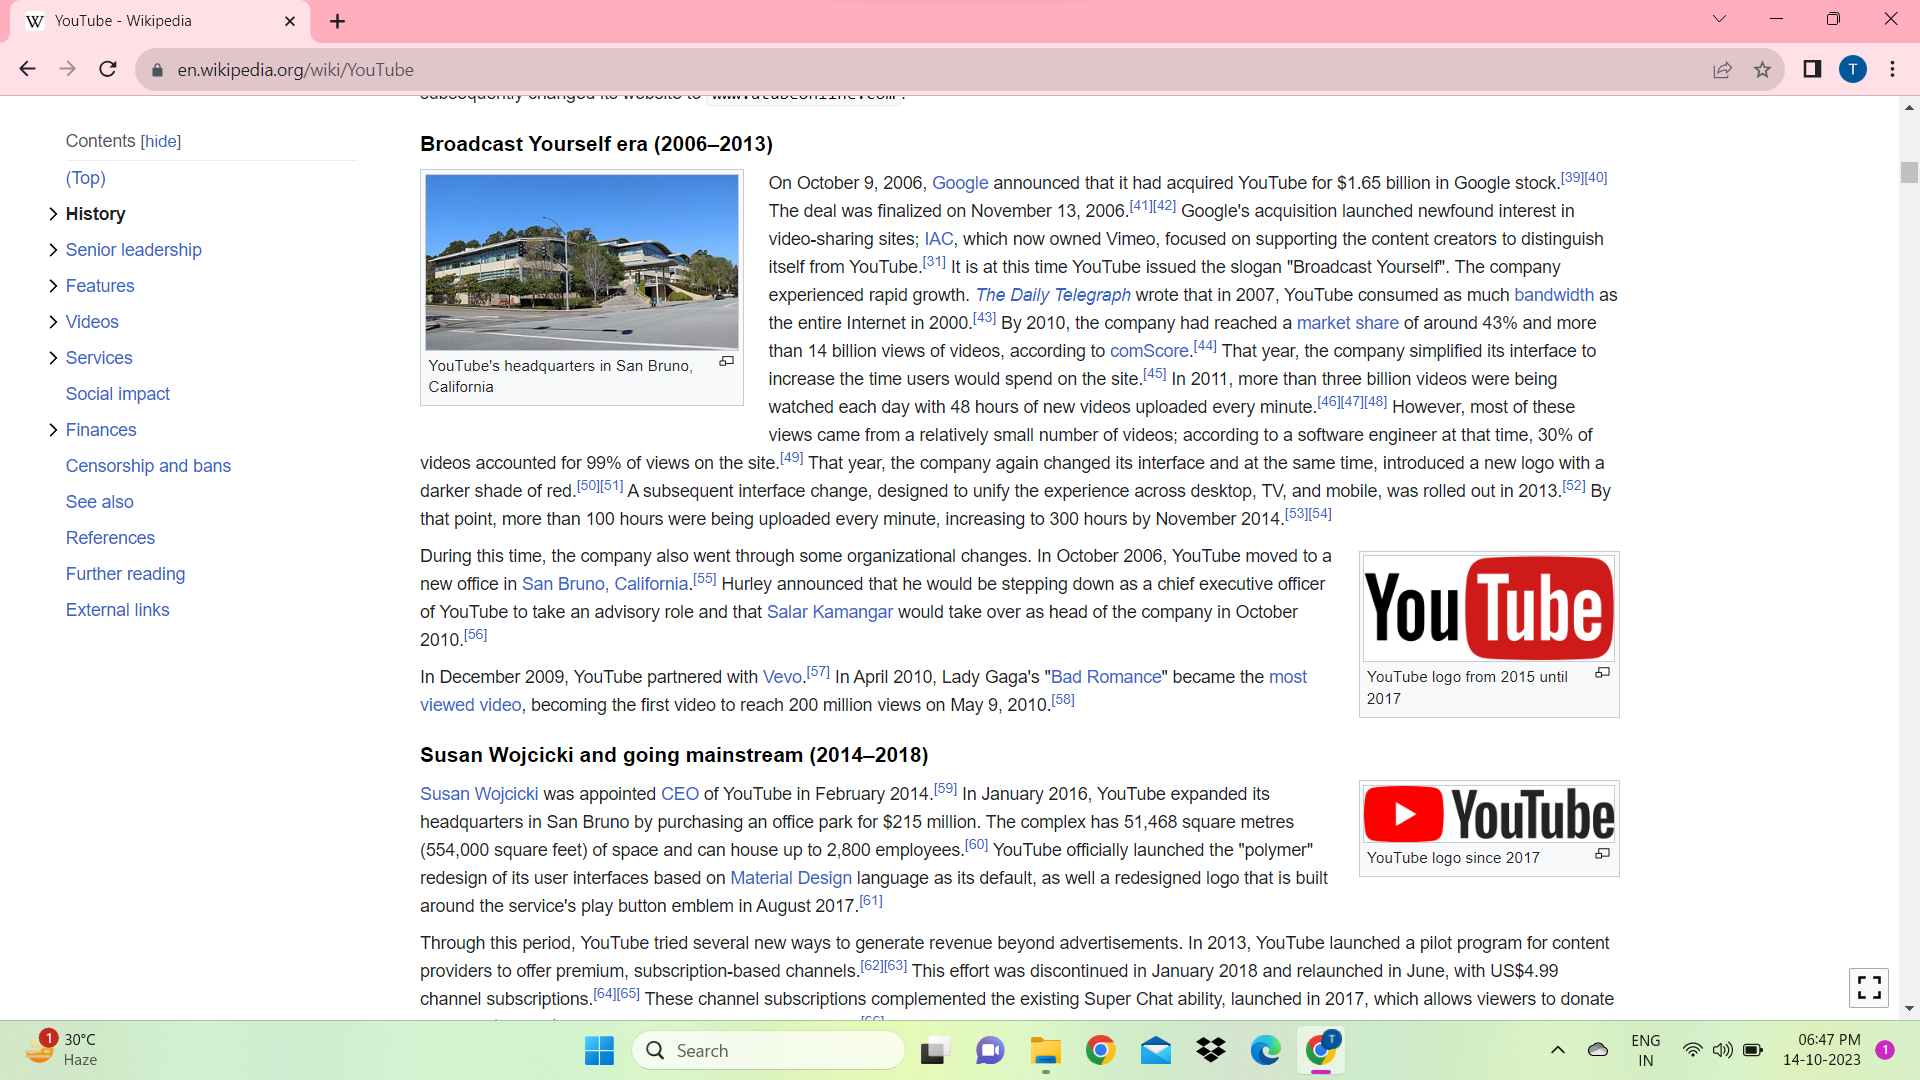Image: (414, 169, 740, 349), (1344, 546, 1629, 727), (1344, 773, 1635, 886)
Paragraph: (390, 169, 1629, 535), (404, 539, 1337, 725), (414, 785, 1340, 915), (404, 932, 1629, 1010), (410, 737, 943, 774), (407, 125, 779, 164), (57, 233, 210, 264), (61, 455, 240, 479), (61, 125, 199, 153), (54, 520, 170, 549), (65, 560, 186, 587), (65, 382, 175, 407), (58, 414, 146, 444), (62, 343, 145, 369), (58, 488, 145, 513), (58, 600, 177, 617), (62, 272, 146, 295), (62, 309, 136, 335), (61, 200, 140, 224), (61, 160, 119, 190)
